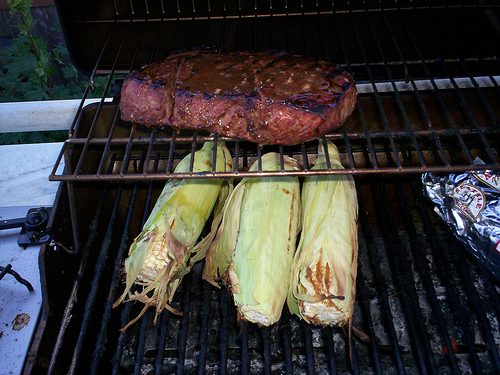corn: (113, 133, 233, 329), (286, 135, 359, 330), (234, 151, 300, 324)
